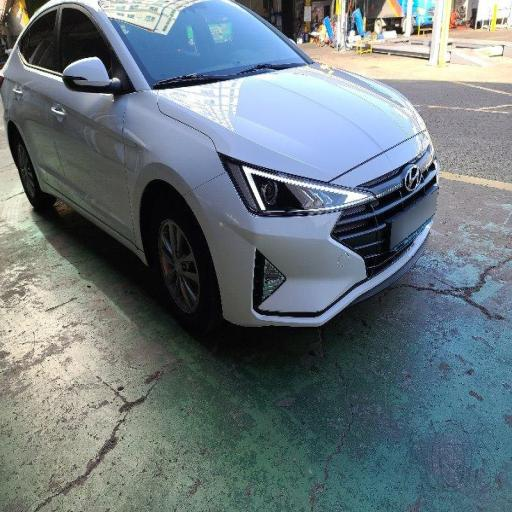normal: (8, 6, 448, 371)
